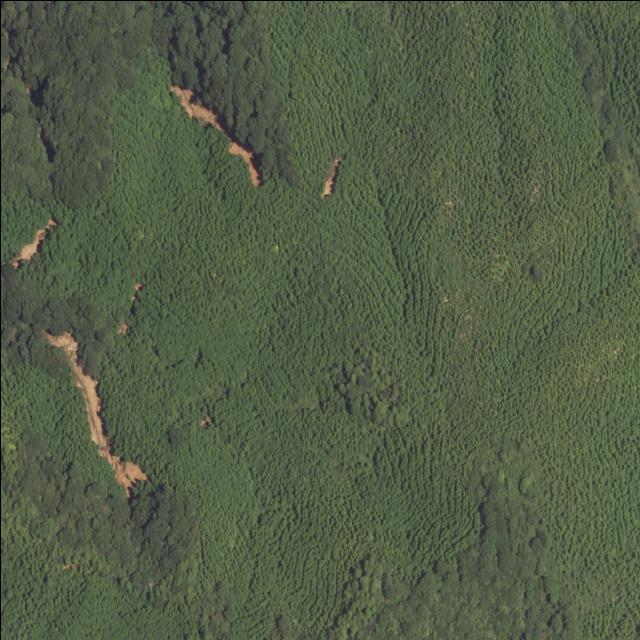landslide: (42, 331, 146, 498), (169, 84, 225, 133), (10, 218, 55, 267), (228, 140, 260, 184), (321, 154, 342, 196)
